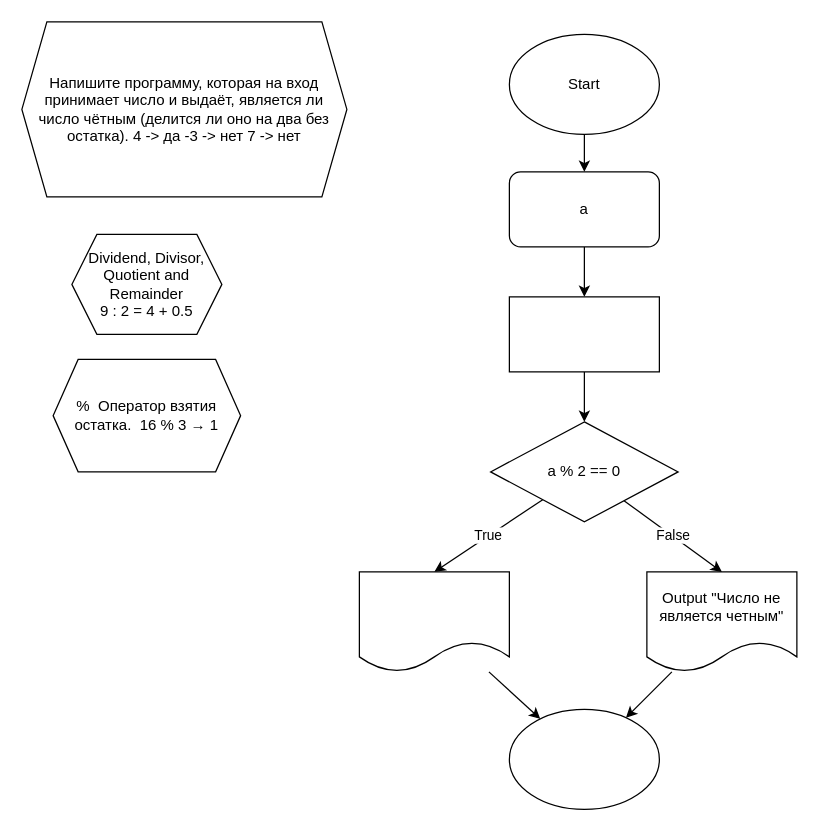
This 819x831 diagram has some shape labels left out. The shapes that lost their labels are listed below. From the top down, each one's centre as x and y in pixels, then its label:
point 583,334: Input a
point 433,621: Output "Число является четным"
point 583,758: Finish
